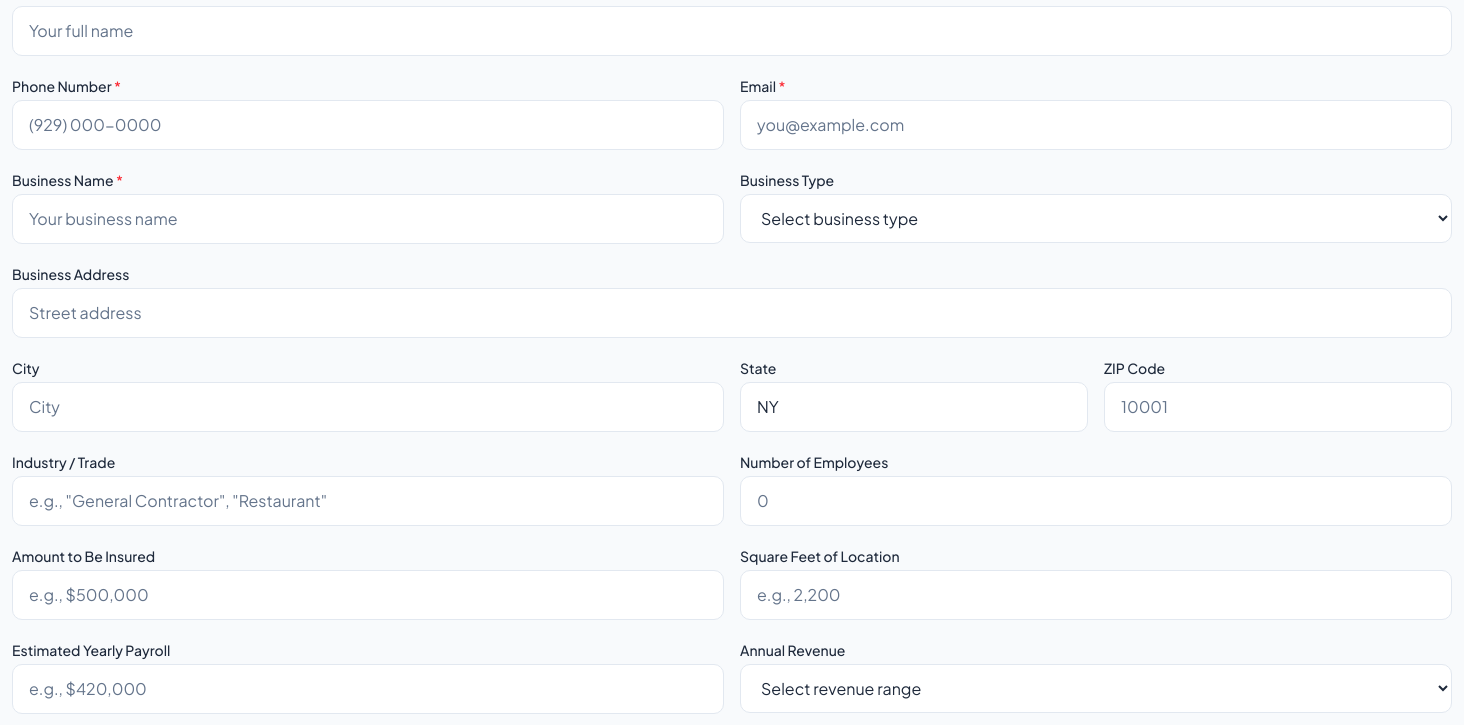
InsuranceForm › shows an error message when the API returns a failure
The image size is (1464, 725).
Type "Morgan Policy" into the field labelled "Full Name *" at (732, 31), box [12,6,1452,56]
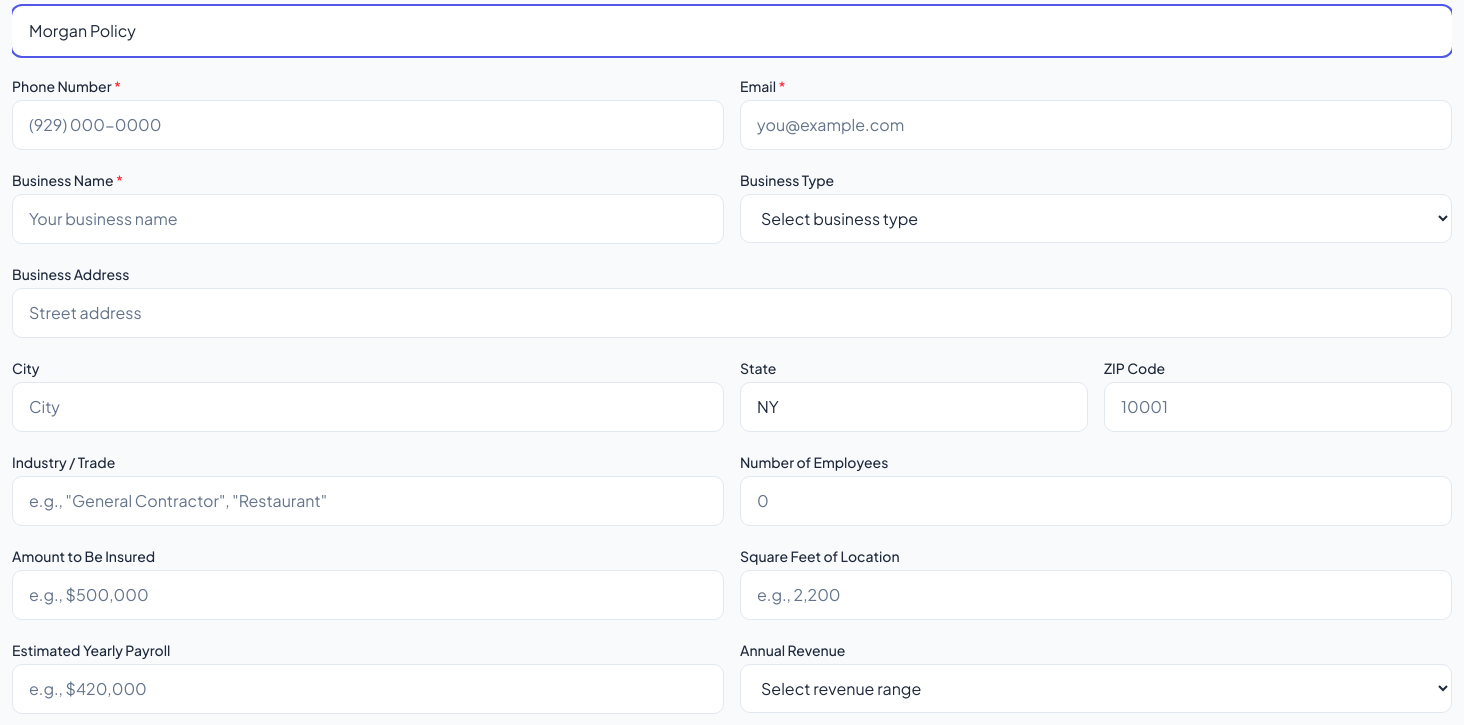
Type "9295550104" into the field labelled "Phone Number *" at (368, 125), box [12,100,724,150]
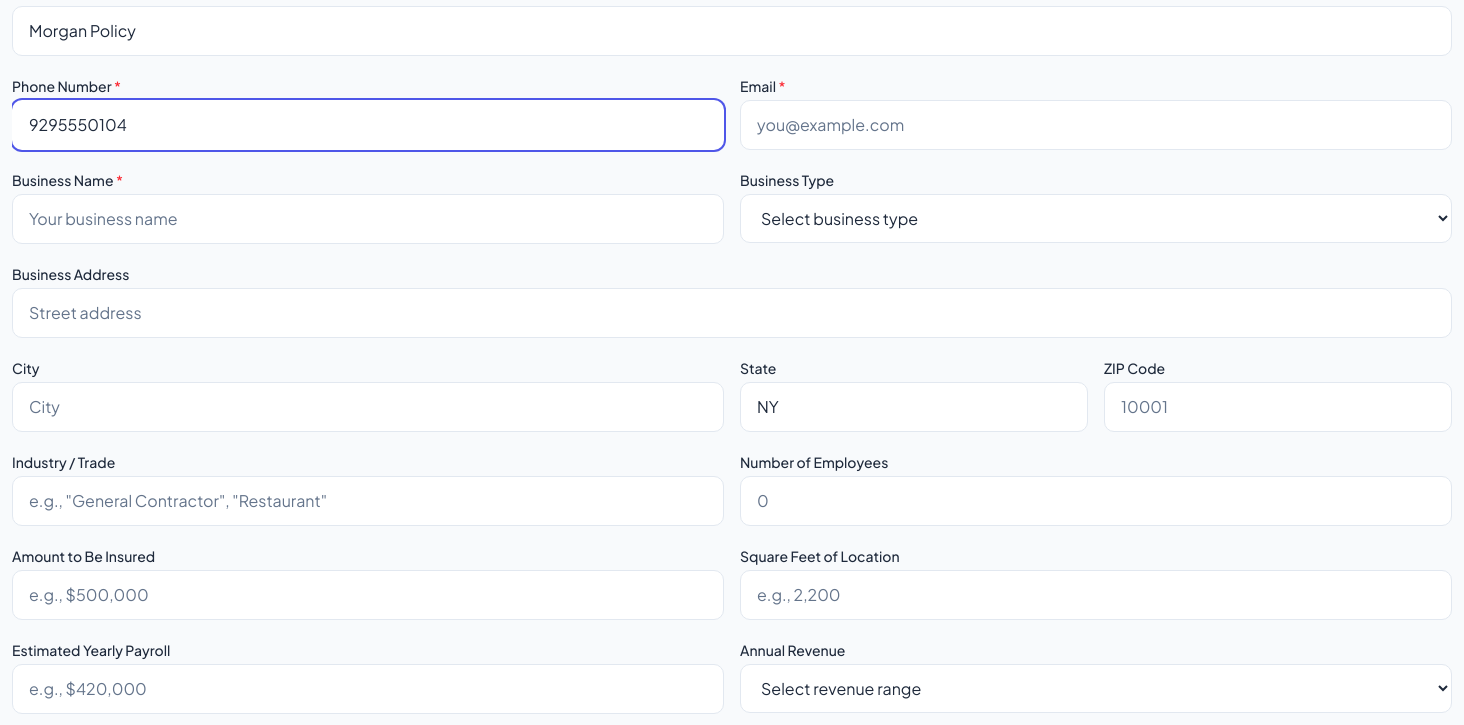
Type "morgan@example.com" into the field labelled "Email *" at (1096, 125), box [740,100,1452,150]
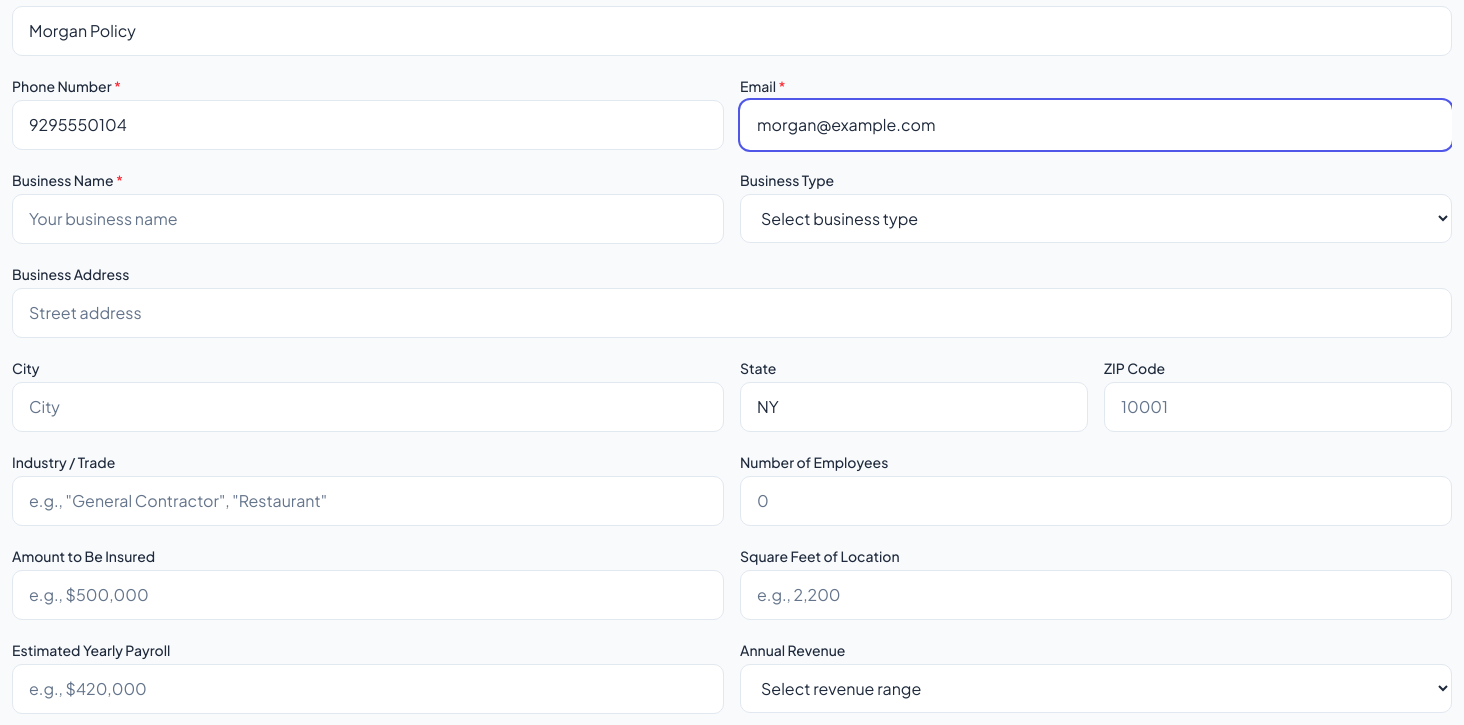
Type "Morgan LLC" into the field labelled "Business Name *" at (368, 219), box [12,194,724,244]
(page scrolled)
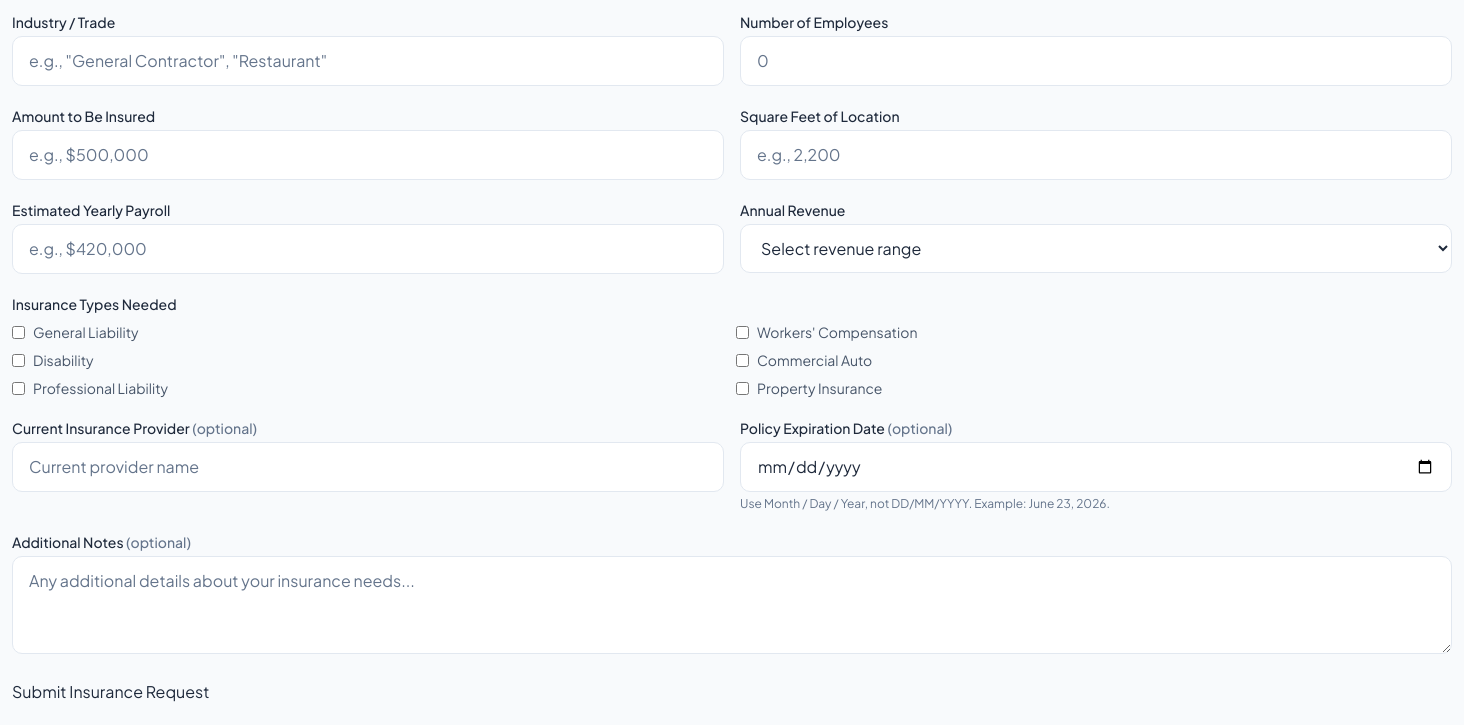
Click the button "Submit Insurance Request" at (111, 692), box [12,680,209,704]
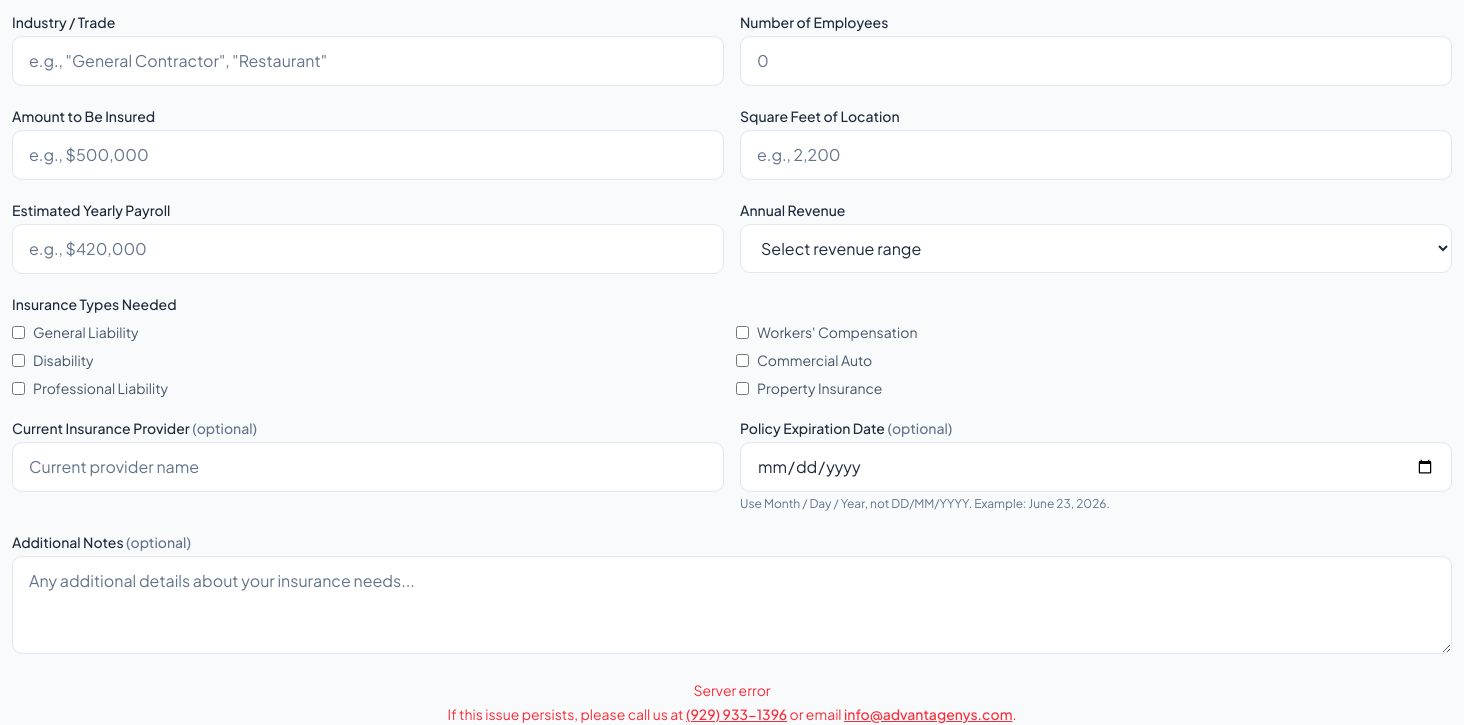
Expected: the text "Server error" is shown, [693,681,771,699]
